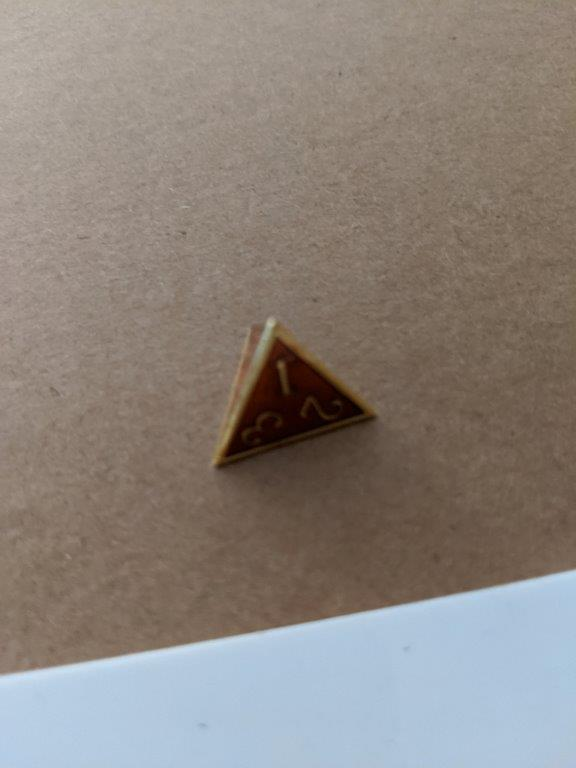d4-1: (197, 304, 384, 483)
